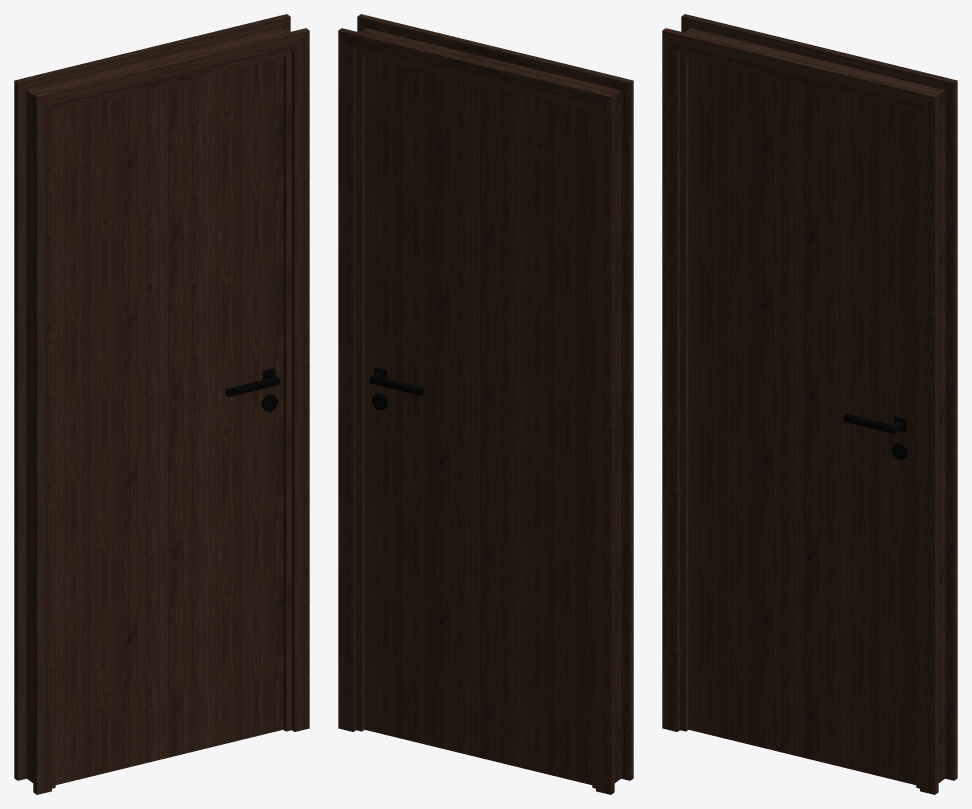
The model's file is door.glb.
3 renders of one model, left to right at view 1: azimuth 30°, elevation 25°; view 2: azimuth 150°, elevation 25°; view 3: azimuth 330°, elevation 25°, orthographic.
Visible parts, largest first — view 1: Box039; view 2: Box039; view 3: Box039.
Part boxes in pixels (x1=…): Box039: x1=14, y1=14, x2=309, y2=794; Box039: x1=338, y1=14, x2=633, y2=794; Box039: x1=662, y1=14, x2=957, y2=794.
Size of the model in its own units: 0.09 by 0.22 by 0.0181.
Materials: 2 (1 with a texture image).
